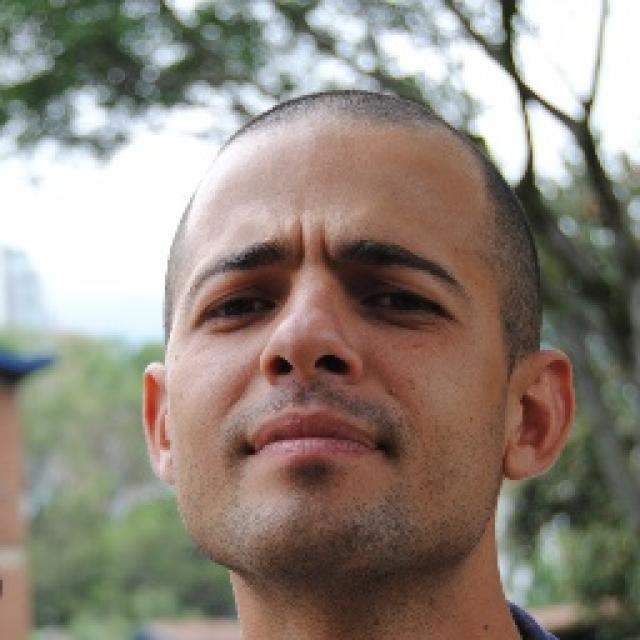earlobe: (501, 348, 574, 481), (140, 361, 179, 484)
